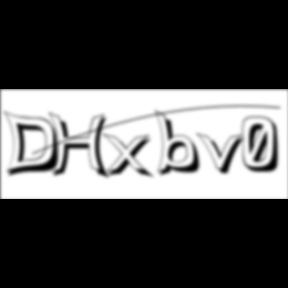0: (242, 115, 286, 174)
D: (3, 110, 66, 180)
H: (48, 112, 114, 182)
b: (154, 109, 208, 179)
v: (197, 131, 251, 177)
x: (102, 132, 158, 181)
